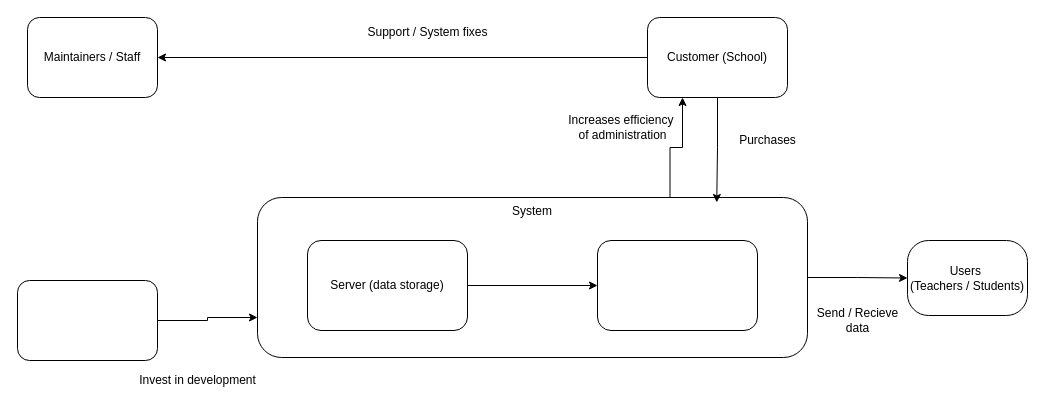
Image size: 1045x413. Some labels were removed from this diagram. Here are the shapes that lost their labels. From the top down, the centre of each, then its label:
At (x=677, y=285): "Client GUI (display / manipulation)".
At (x=87, y=320): "Shareholders".
